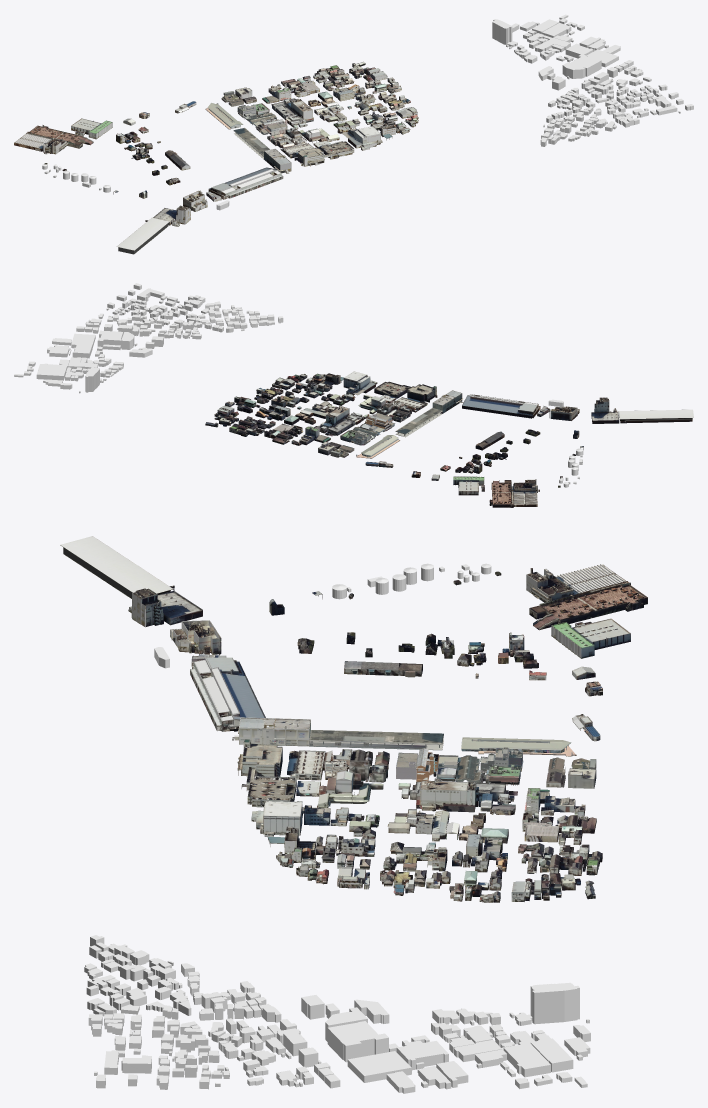
File: 2023-lod3-port-ovr1-packed.glb
3 renders of one model, top to bottom at view 1: azimuth 30°, elevation 25°; view 2: azimuth 150°, elevation 25°; view 3: azimuth 270°, elevation 25°, orthographic. The views are drawn at different scales.
Bounding box in the file's own units: 1143 × 31.46 × 516.
17 materials, 15 textured.
